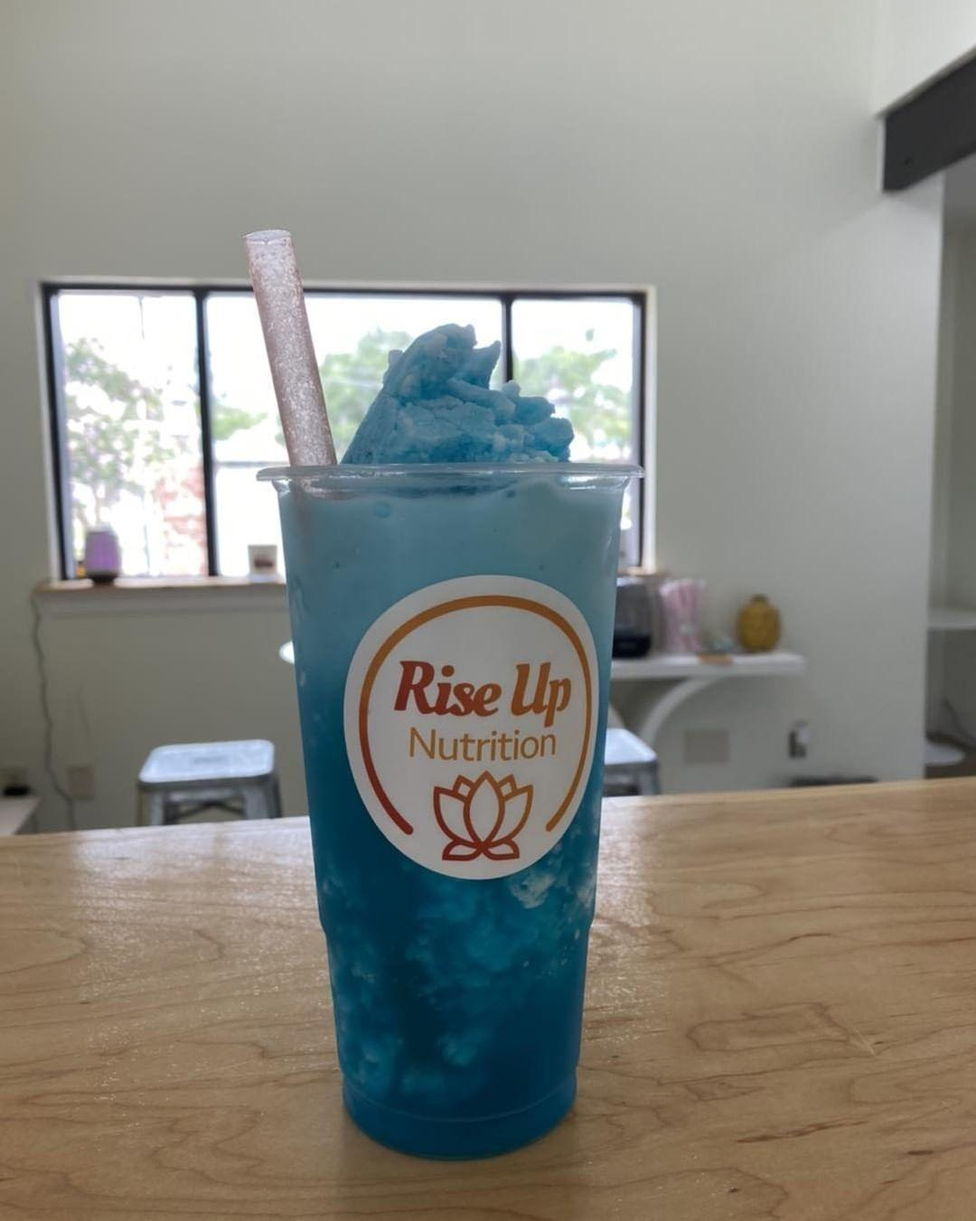cup-disposable: (258, 456, 634, 1151)
